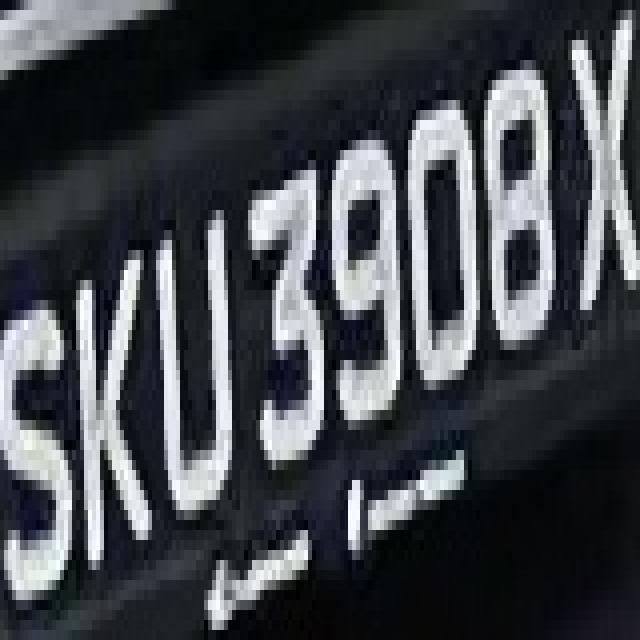0: (392, 70, 488, 420)
3: (240, 150, 328, 500)
8: (472, 40, 560, 390)
9: (320, 100, 408, 440)
K: (56, 210, 160, 610)
U: (144, 180, 244, 540)
X: (564, 20, 636, 330)
